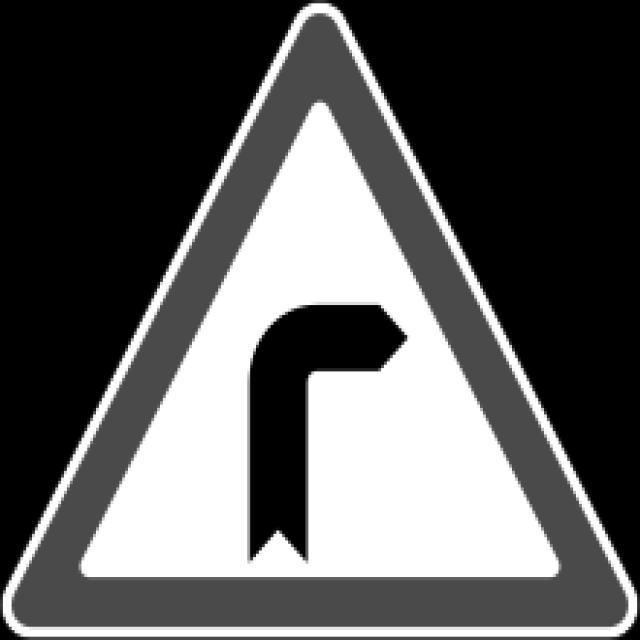right hand curve: (16, 16, 627, 628)
